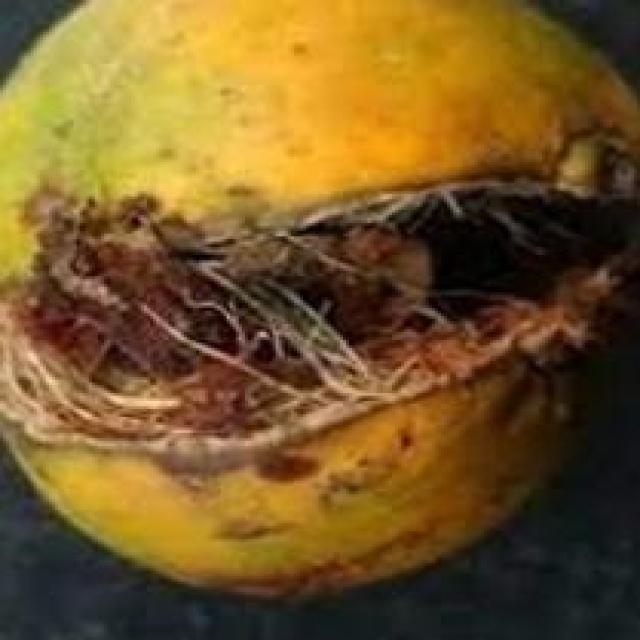damaged: (0, 0, 637, 616)
